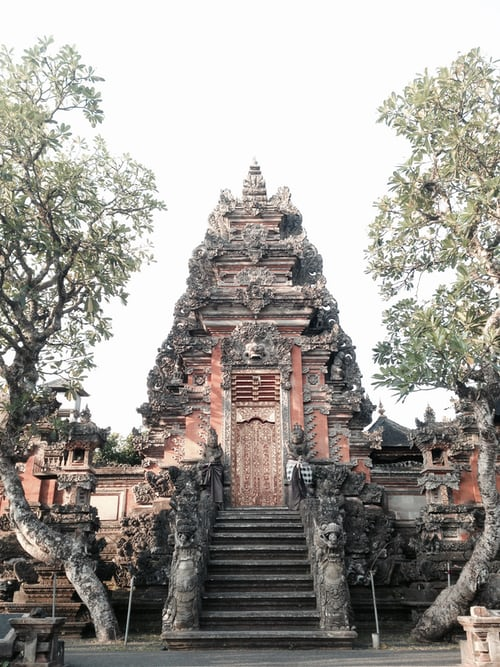Temple: (139, 147, 378, 610)
